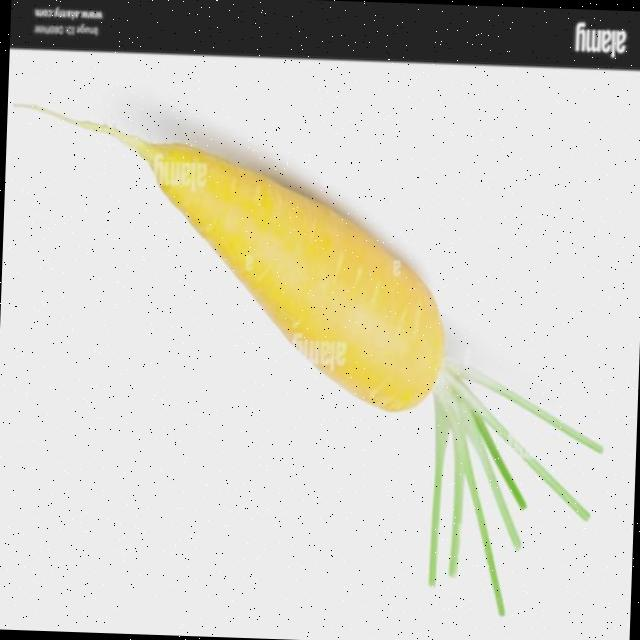carrot: (15, 105, 602, 615)
